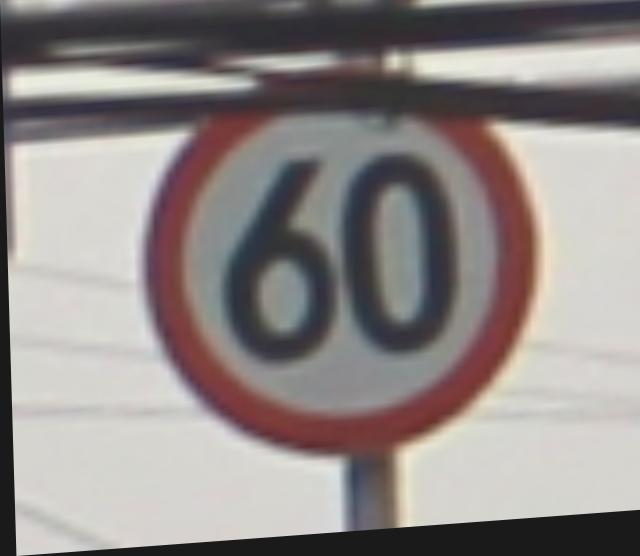limit60: (126, 57, 550, 483)
